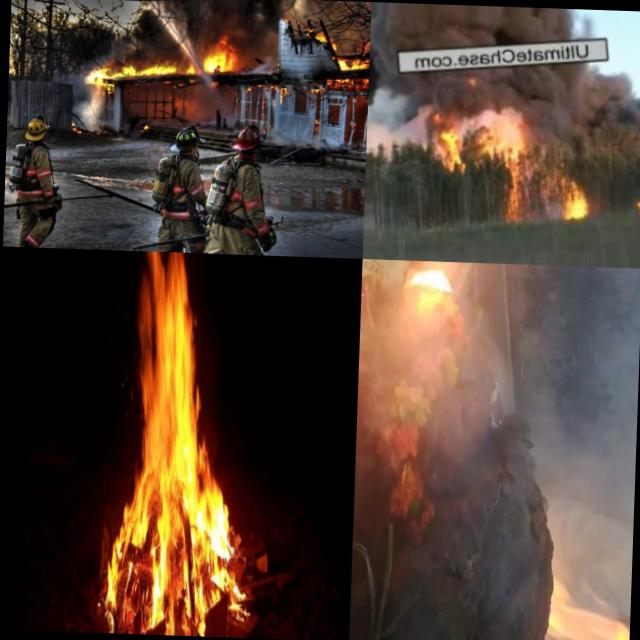fire: (103, 250, 254, 638), (350, 493, 509, 640), (94, 58, 190, 96), (502, 158, 538, 225), (198, 35, 241, 75), (436, 117, 464, 173), (566, 174, 598, 218), (309, 76, 367, 96), (245, 77, 290, 101), (336, 38, 370, 67)
smoke: (478, 263, 640, 614), (470, 407, 594, 640), (542, 64, 638, 152), (366, 78, 446, 157), (172, 0, 295, 48), (469, 88, 544, 159), (270, 118, 352, 150), (72, 74, 105, 134)
